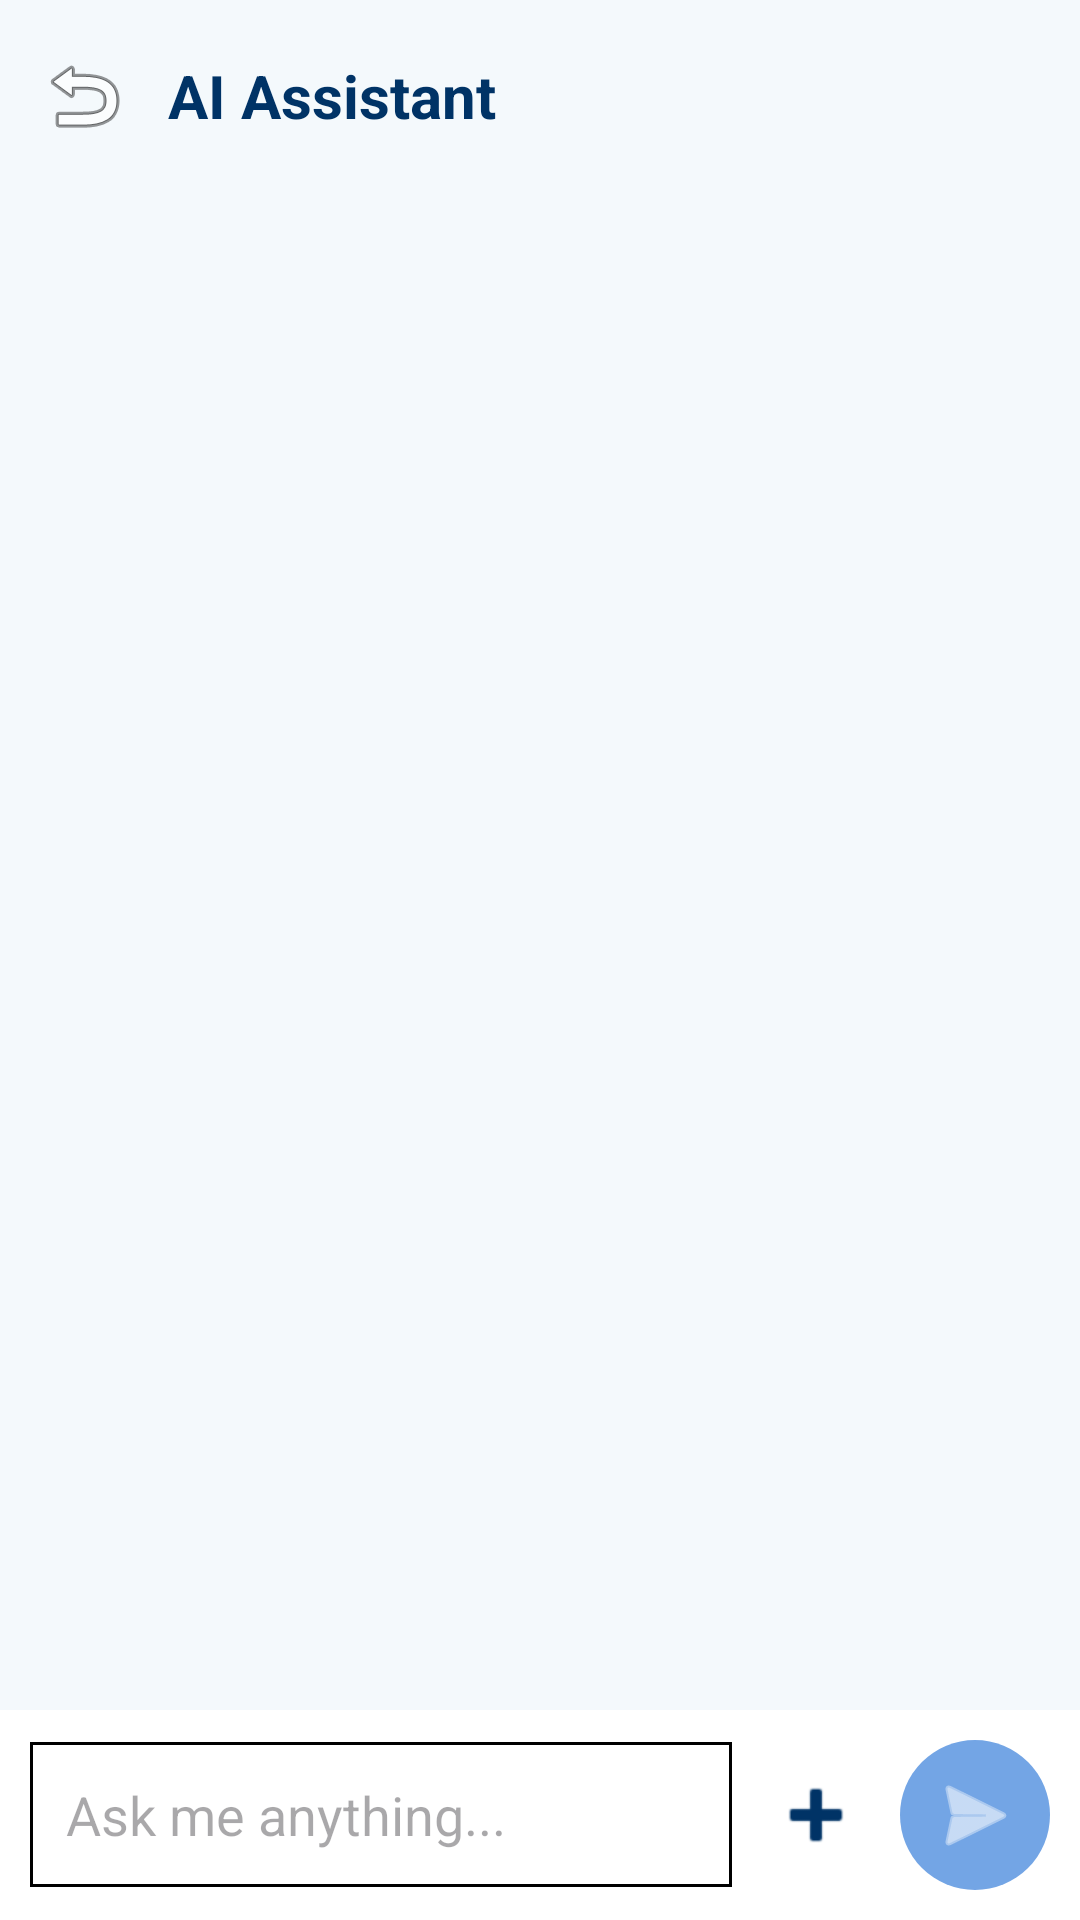

Screen size 1080 × 1920. Icon name, then its center in pixels as point (x, y):
Attach: point (816, 1815)
Send: point (975, 1815)
